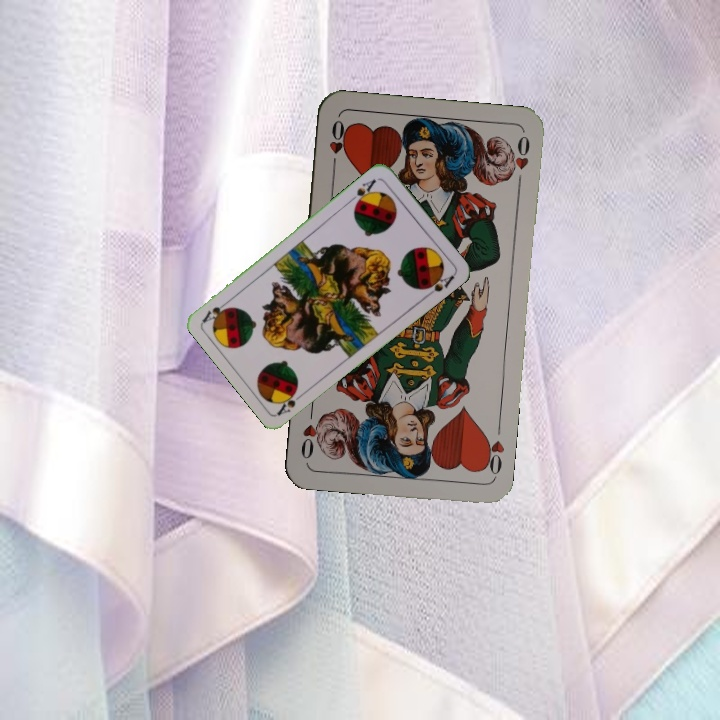HO: (325, 116, 350, 174), (478, 430, 507, 480)
SA: (345, 175, 379, 209), (274, 385, 308, 418)
